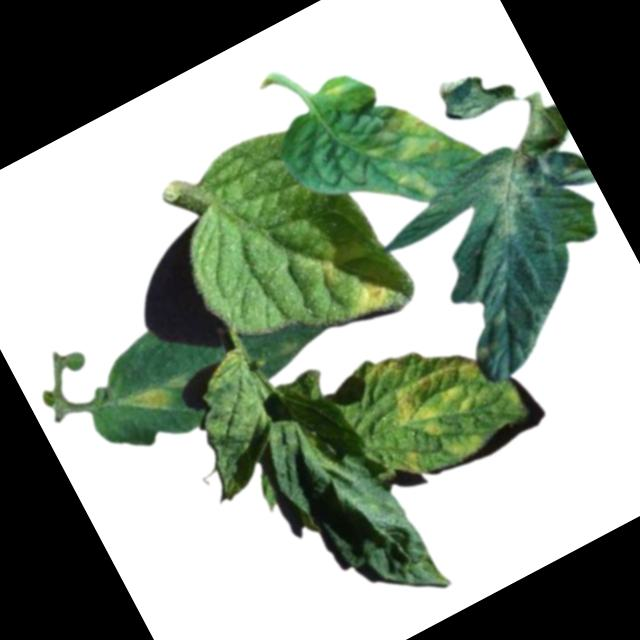Leaf_Mold: (361, 317, 497, 448), (356, 87, 478, 213), (459, 145, 563, 246), (338, 276, 393, 326), (121, 377, 177, 425), (392, 444, 426, 481), (314, 261, 340, 290)
